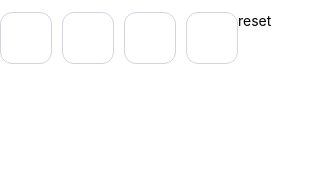
Test: OtpInput › works as a controlled input
The image size is (320, 172).
Later steps or results of the test are not shown.
Replace the text in the field with test id "otp-input-hidden" with "42" at (136,38), box [0,12,271,64]
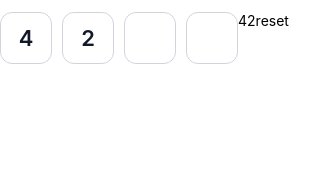
Now the text with test id "out" reads "42", box [238,12,256,29]
